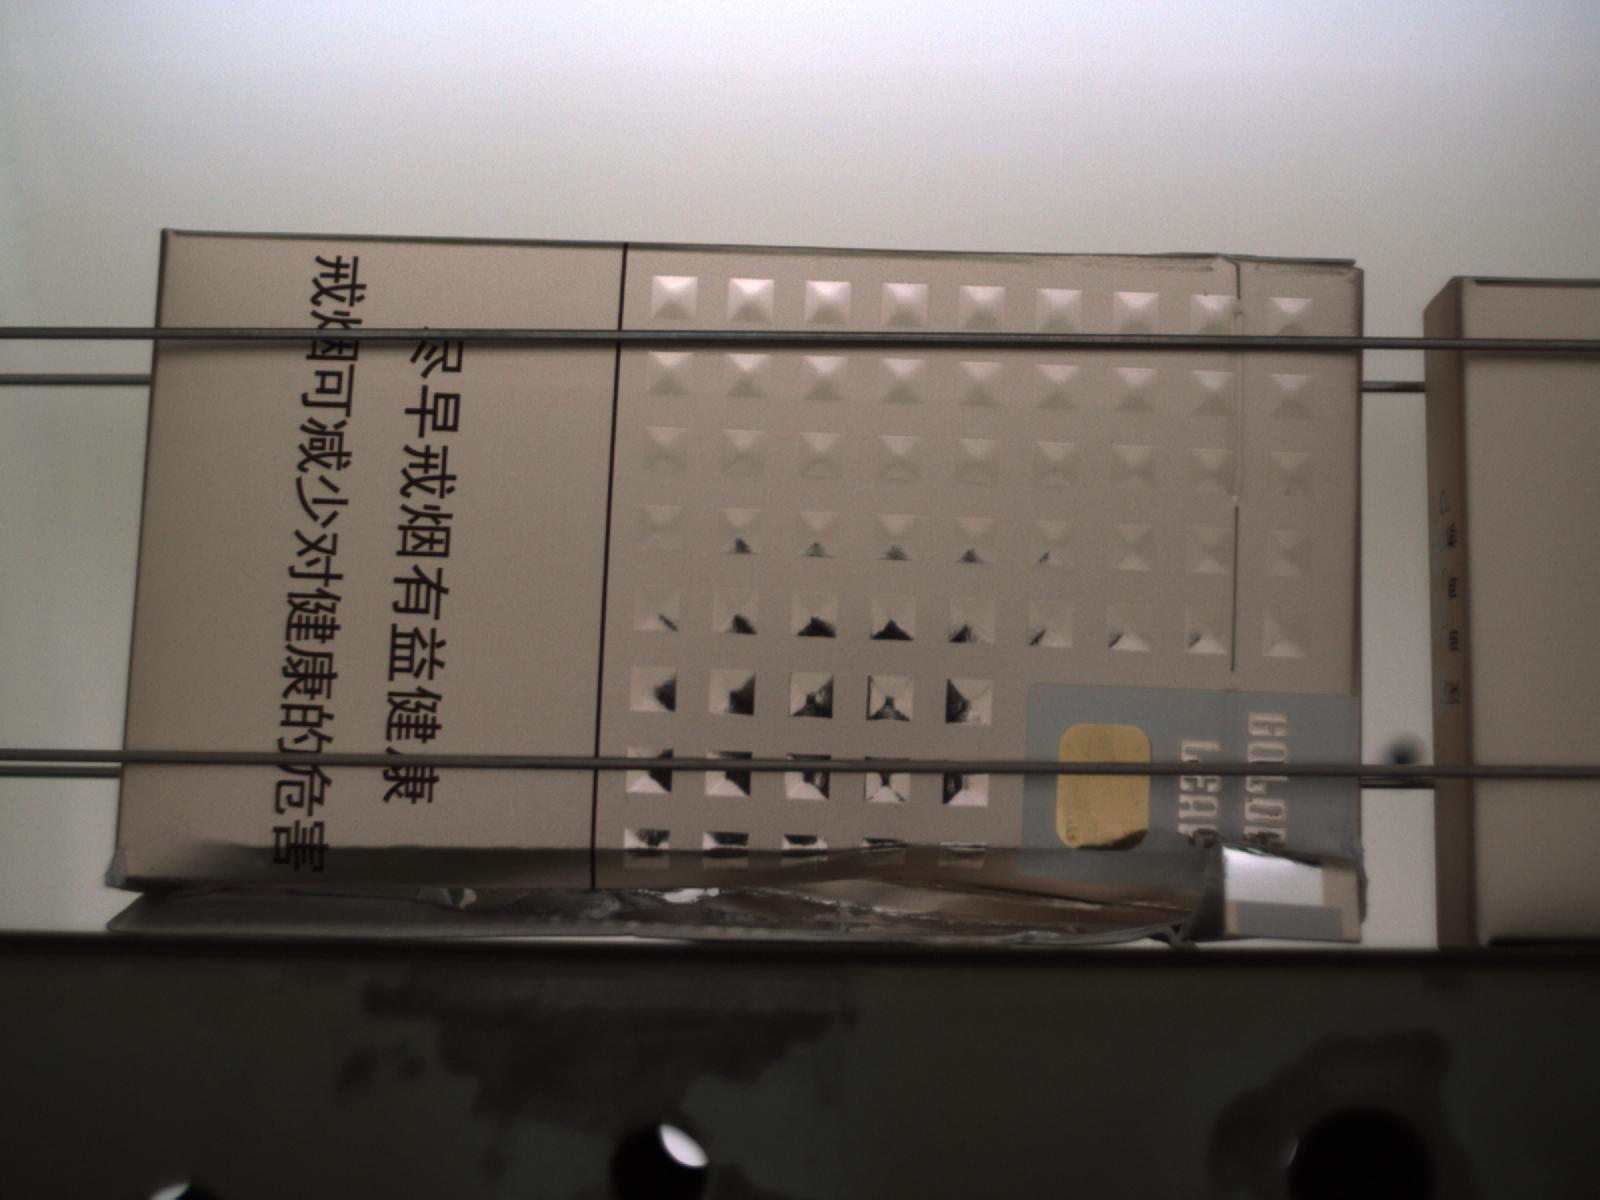dirtyScratch: (125, 836, 1369, 948)
skewed_upper_2: (1220, 842, 1366, 943)
